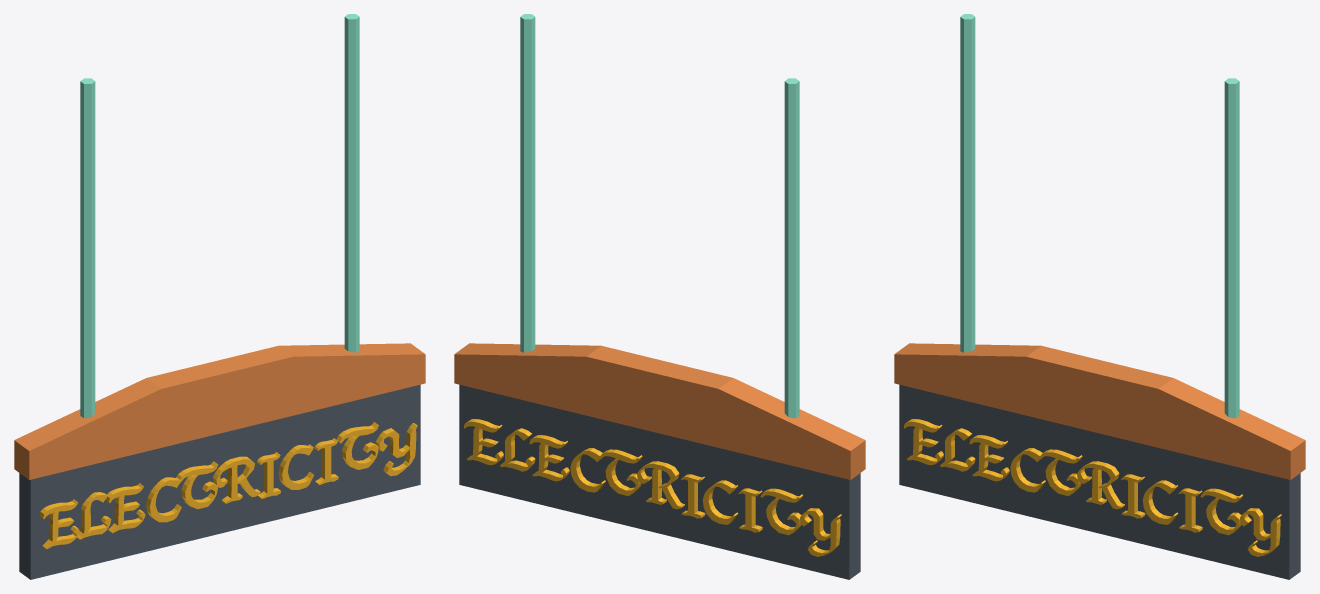
Rendered from StoreSigns.fbx_Electricity.fbx.
3 views of the same model, side by side, from view 1: azimuth 30°, elevation 25°; view 2: azimuth 150°, elevation 25°; view 3: azimuth 330°, elevation 25° (orthographic).
Parts seen in each view (by area): view 1: Electricty; view 2: Electricty; view 3: Electricty.
Part boxes in pixels (<box>): Electricty: <box>14,14,425,579</box>; Electricty: <box>454,14,865,579</box>; Electricty: <box>894,14,1305,579</box>.
Bounding box in the file's own units: 52 × 610 × 705.
